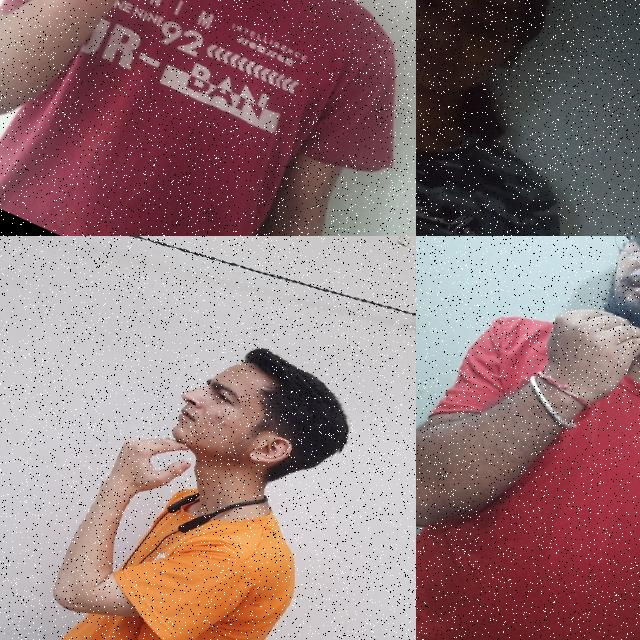Chin Flick: (85, 294, 382, 582), (518, 236, 640, 454)
